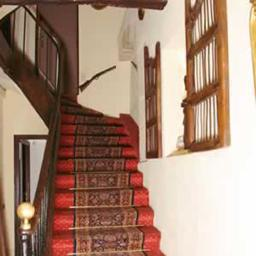Escaleras: (4, 25, 164, 253)
